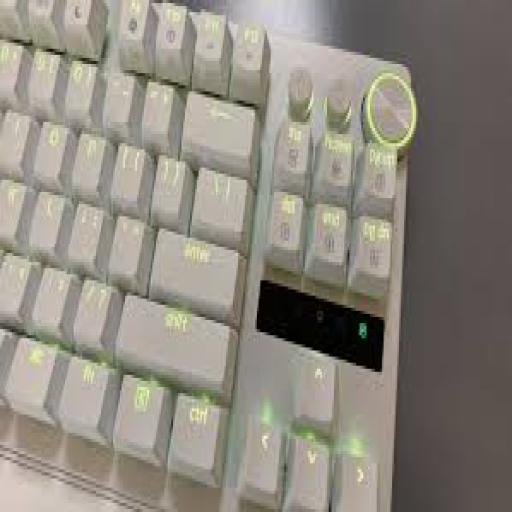KEYBOARD-2: (0, 0, 416, 509)
